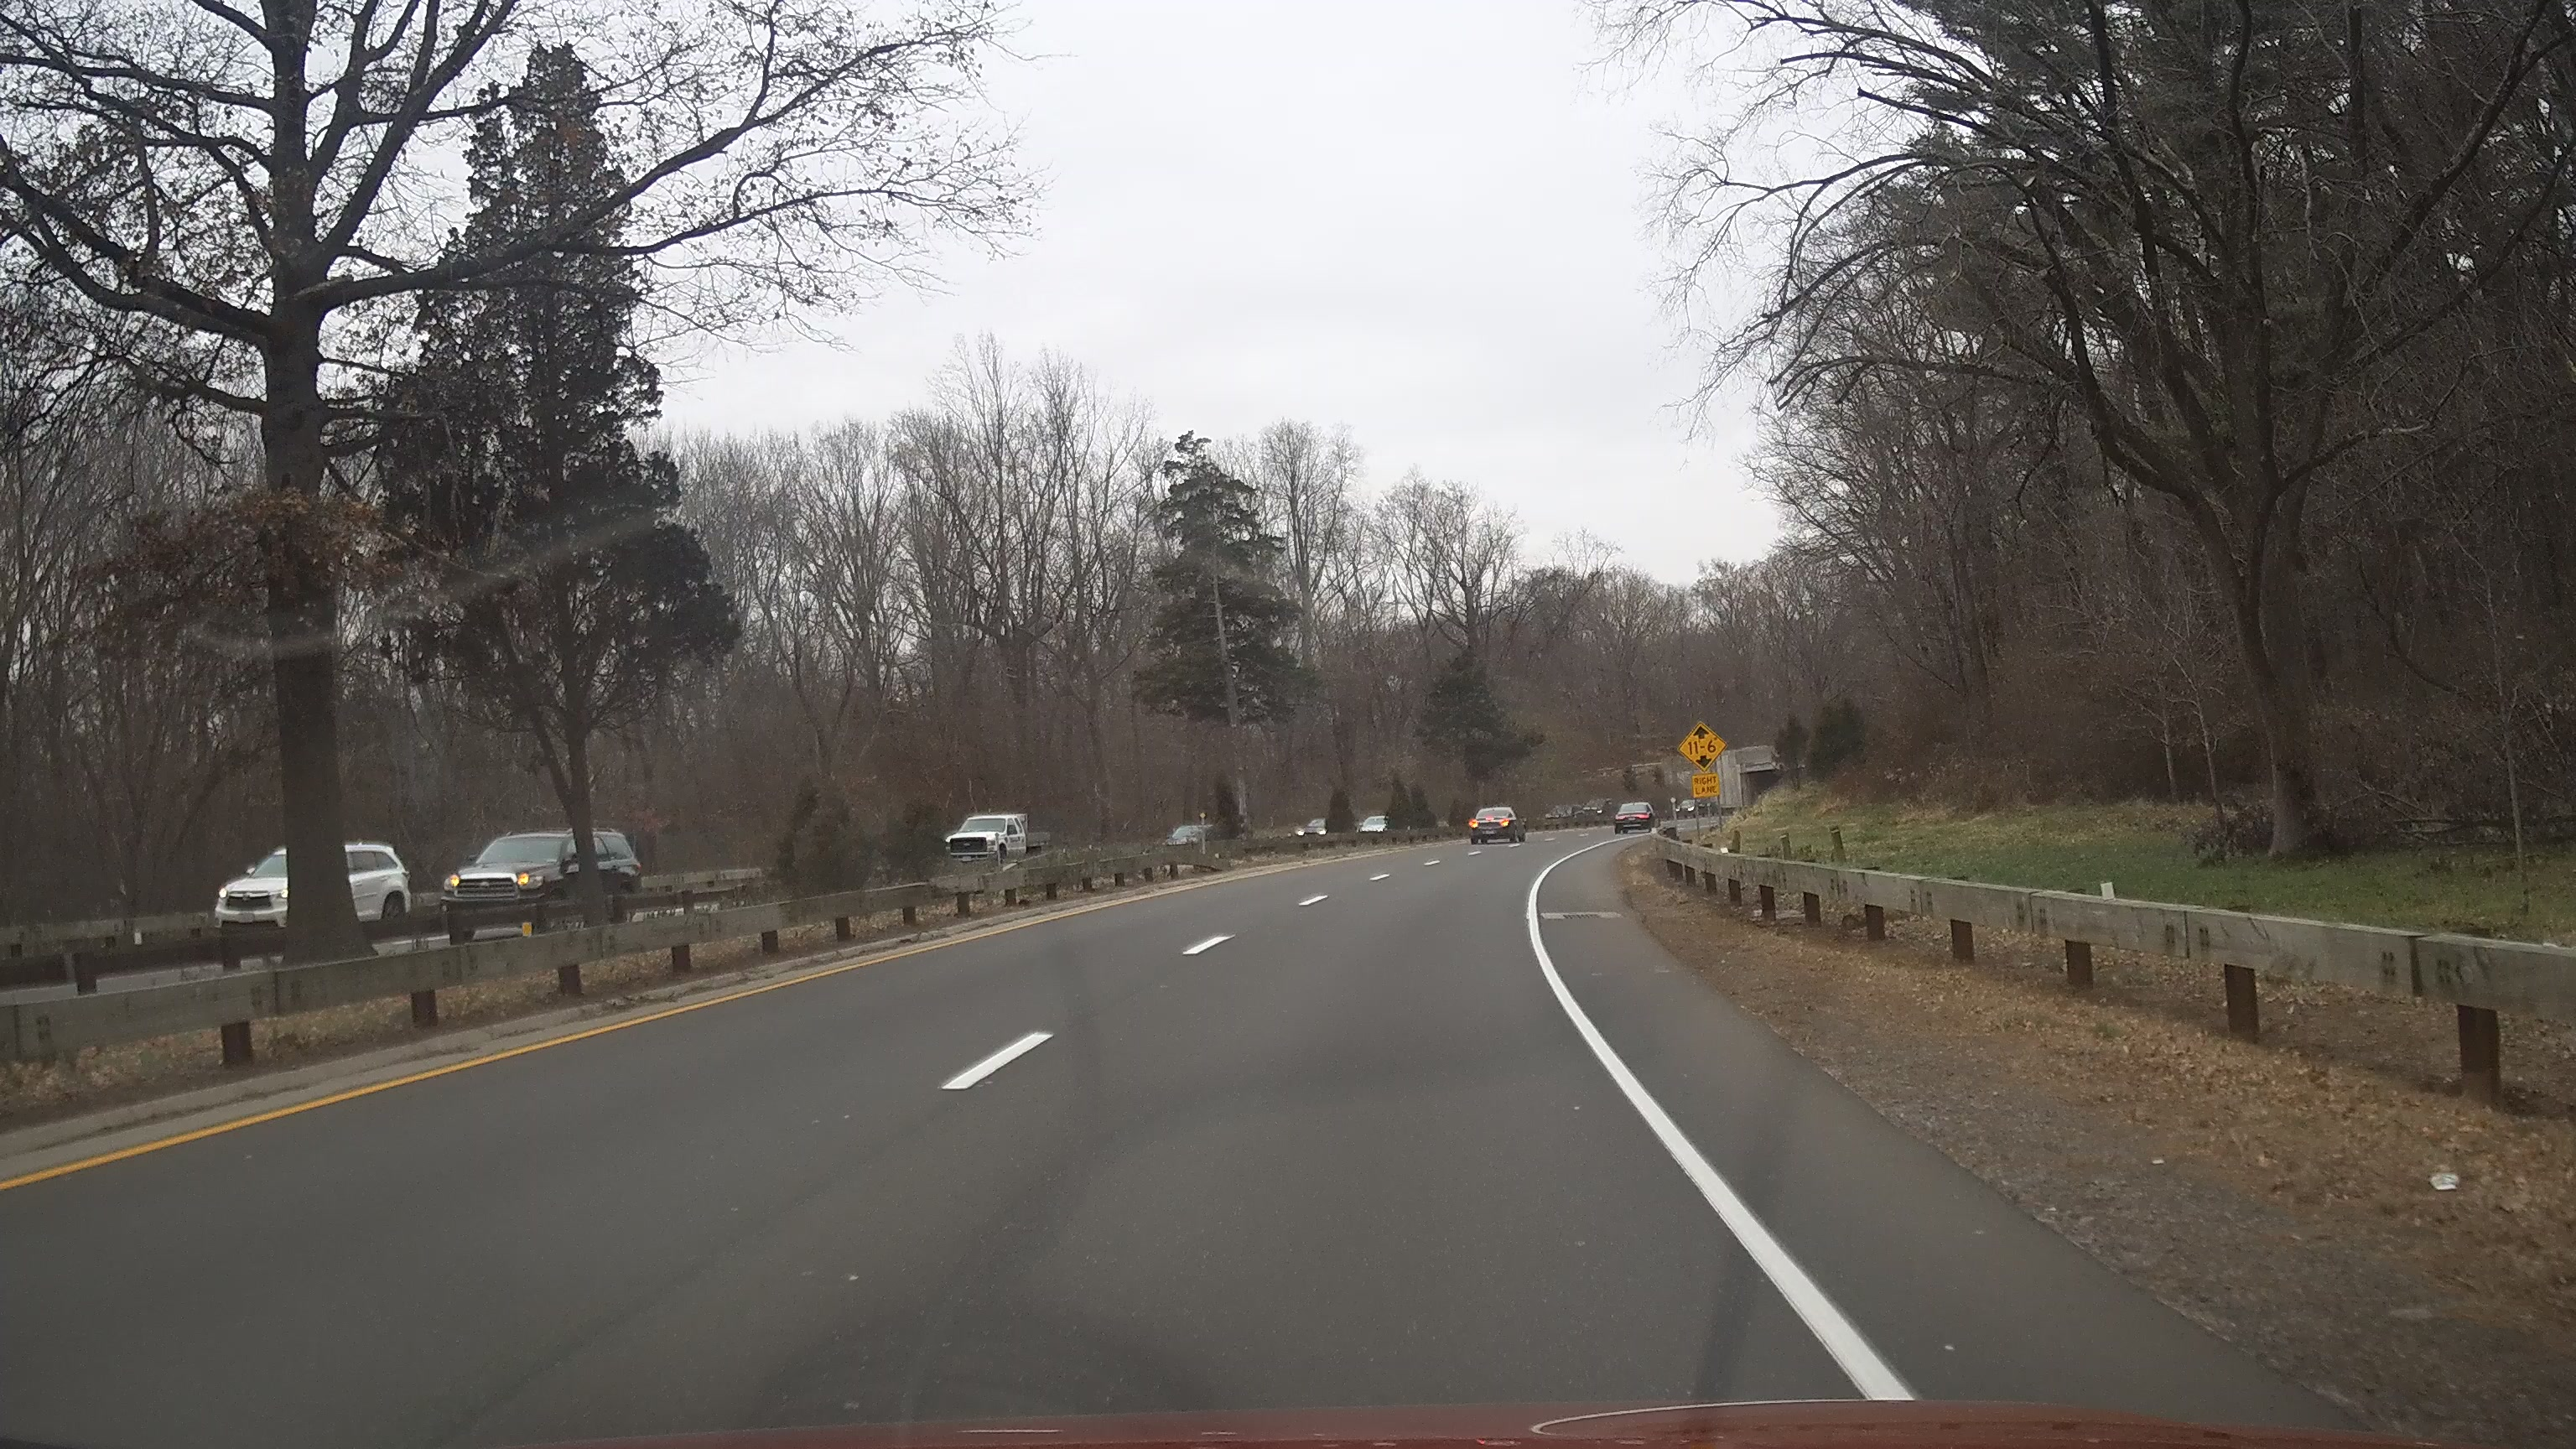low-clearance-sign: (1675, 720, 1729, 773)
